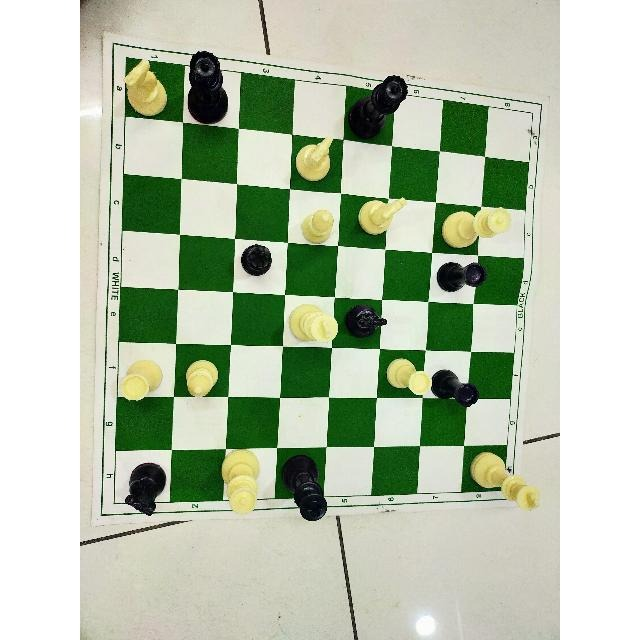black-bishop: (238, 242, 274, 280)
black-king: (278, 455, 330, 525)
black-knight: (122, 459, 170, 519), (342, 301, 389, 341)
black-queen: (344, 74, 410, 142), (183, 49, 230, 127)
black-rook: (427, 354, 482, 411), (433, 257, 489, 297)
white-bishop: (298, 207, 337, 247), (183, 359, 220, 401)
white-king: (467, 450, 542, 514), (287, 303, 341, 347)
white-knight: (120, 55, 169, 120), (354, 194, 408, 238), (293, 133, 334, 185)
white-queen: (440, 205, 514, 249), (218, 445, 262, 516)
white-rook: (116, 357, 162, 405), (385, 355, 433, 399)
